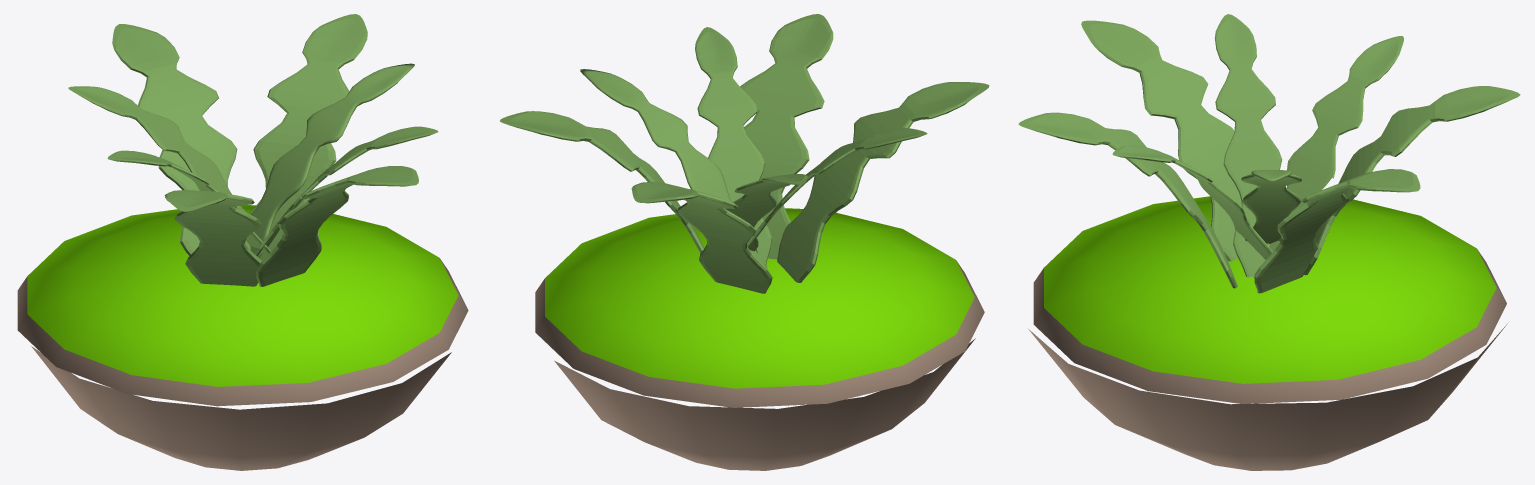
Rendered from Algue-2.gltf.
3 renders of one model, left to right at view 1: azimuth 30°, elevation 25°; view 2: azimuth 150°, elevation 25°; view 3: azimuth 270°, elevation 25°, orthographic. The views are drawn at different scales.
Parts seen in each view (by area): view 1: Default-04___Default, Default-01___Default, Sphere, Default-03___Default; view 2: Default-04___Default, Default-01___Default, Sphere, Default-03___Default; view 3: Default-04___Default, Default-01___Default, Sphere, Default-03___Default.
Part boxes in pixels (left/top/right/bottom): Default-04___Default: left=27, top=205, right=458, bottom=386; Default-01___Default: left=68, top=14, right=438, bottom=286; Sphere: left=31, top=346, right=451, bottom=470; Default-03___Default: left=17, top=259, right=468, bottom=406; Default-04___Default: left=545, top=208, right=974, bottom=388; Default-01___Default: left=500, top=14, right=989, bottom=293; Sphere: left=554, top=338, right=975, bottom=470; Default-03___Default: left=535, top=261, right=984, bottom=407; Default-04___Default: left=1044, top=196, right=1496, bottom=383; Default-01___Default: left=1018, top=14, right=1520, bottom=293; Sphere: left=1028, top=323, right=1507, bottom=470; Default-03___Default: left=1033, top=249, right=1506, bottom=404.
Size of what is drawn, in the model's own units: 110 by 90.35 by 116.
